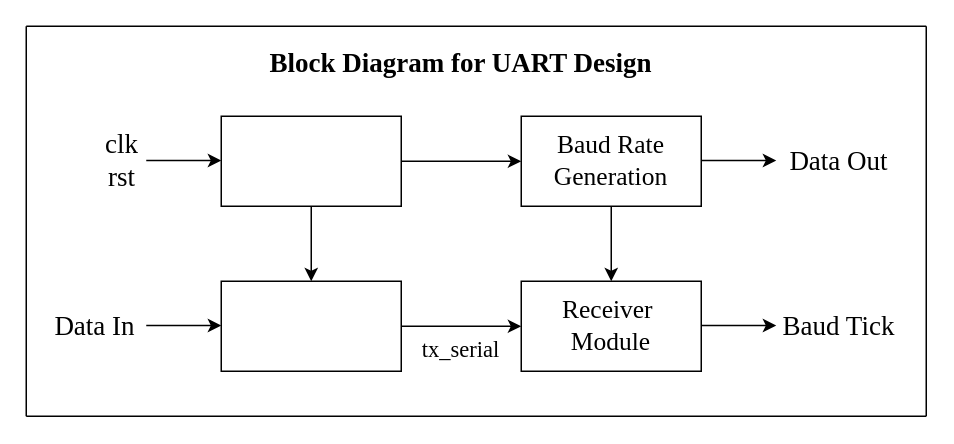
Some shapes in this 954 by 444 pixel diagram are drawn without their labels. The box of each missing label's shape, as (x1, y1, x2, y2) in pixels:
Clock / Reset: (220, 115, 401, 206)
Transmitter Module: (220, 280, 401, 371)
